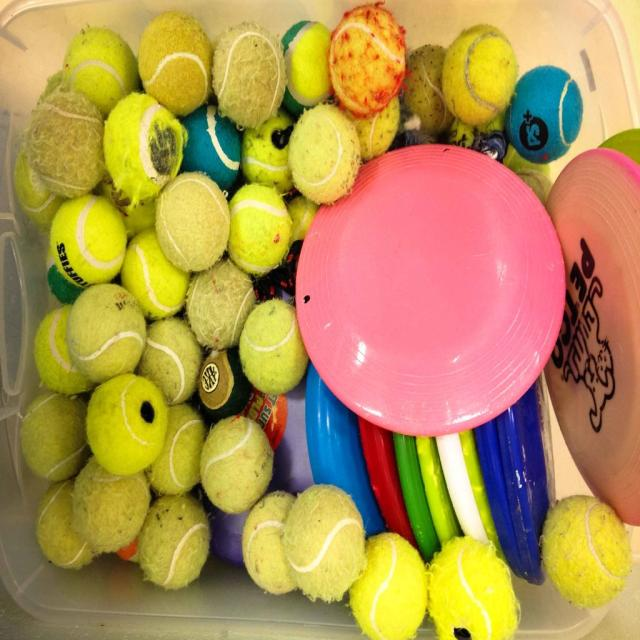Tennis ball: (14, 7, 635, 640)
